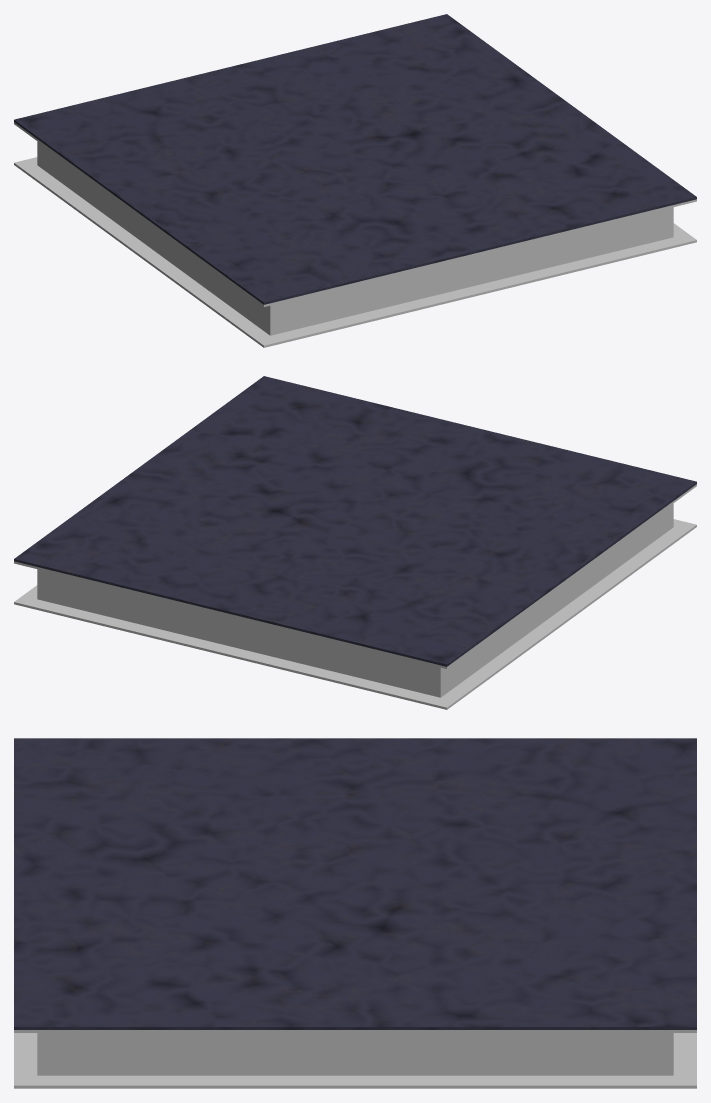
The model's file is Gym Walkway.fbx.
3 views of the same model, one above another, from view 1: azimuth 30°, elevation 25°; view 2: azimuth 150°, elevation 25°; view 3: azimuth 270°, elevation 25° (orthographic). The views are drawn at different scales.
Visible parts, largest first — view 1: Gym_Walkway; view 2: Gym_Walkway; view 3: Gym_Walkway.
Boxes of the visible parts, <box> form: Gym_Walkway: <box>14,14,696,347</box>; Gym_Walkway: <box>14,376,696,709</box>; Gym_Walkway: <box>14,738,696,1088</box>.
Bounding box in the file's own units: 400 × 40 × 400.
